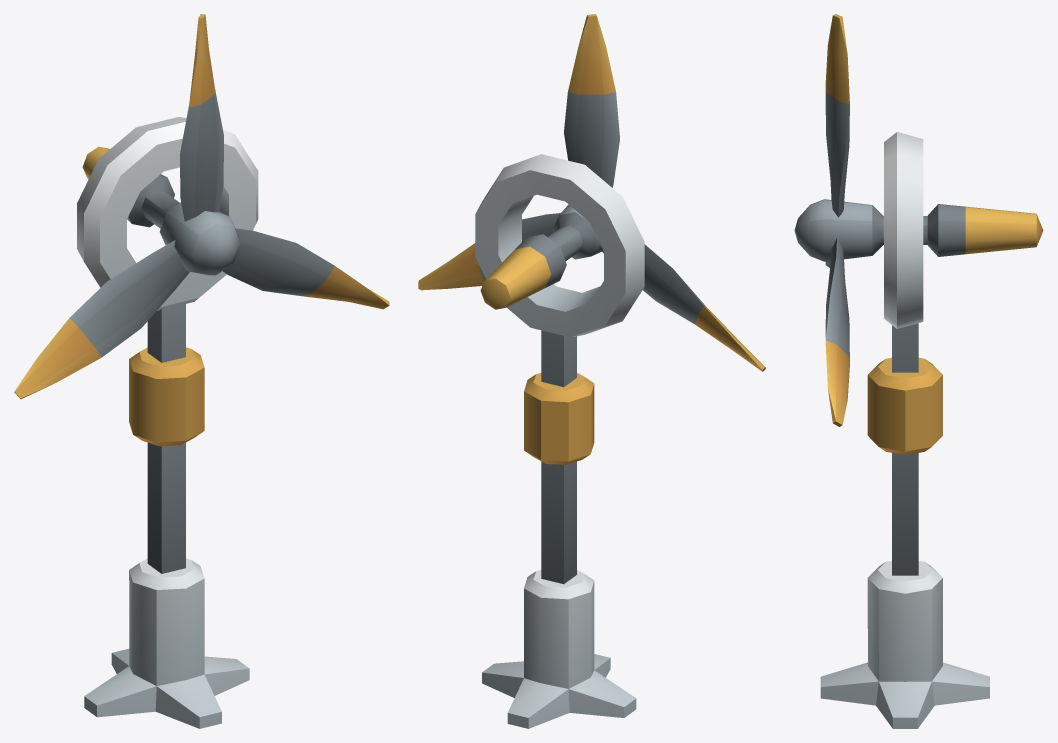
The model's file is WindTurbine.glb.
3 views of the same model, side by side, from view 1: azimuth 30°, elevation 25°; view 2: azimuth 150°, elevation 25°; view 3: azimuth 270°, elevation 25° (orthographic). The views are drawn at different scales.
Parts seen in each view (by area): view 1: windturbine_tall_fan_Cylinder.2739, windturbine_tall_Cube.15108; view 2: windturbine_tall_fan_Cylinder.2739, windturbine_tall_Cube.15108; view 3: windturbine_tall_Cube.15108, windturbine_tall_fan_Cylinder.2739.
Boxes of the visible parts, x1=… form: windturbine_tall_fan_Cylinder.2739: x1=14, y1=14, x2=389, y2=399; windturbine_tall_Cube.15108: x1=84, y1=303, x2=249, y2=728; windturbine_tall_fan_Cylinder.2739: x1=418, y1=14, x2=765, y2=371; windturbine_tall_Cube.15108: x1=482, y1=330, x2=636, y2=728; windturbine_tall_Cube.15108: x1=820, y1=323, x2=989, y2=728; windturbine_tall_fan_Cylinder.2739: x1=794, y1=14, x2=1043, y2=426.
Bounding box in the file's own units: 1.67 × 3 × 0.9998.
2 materials, 2 textured.
